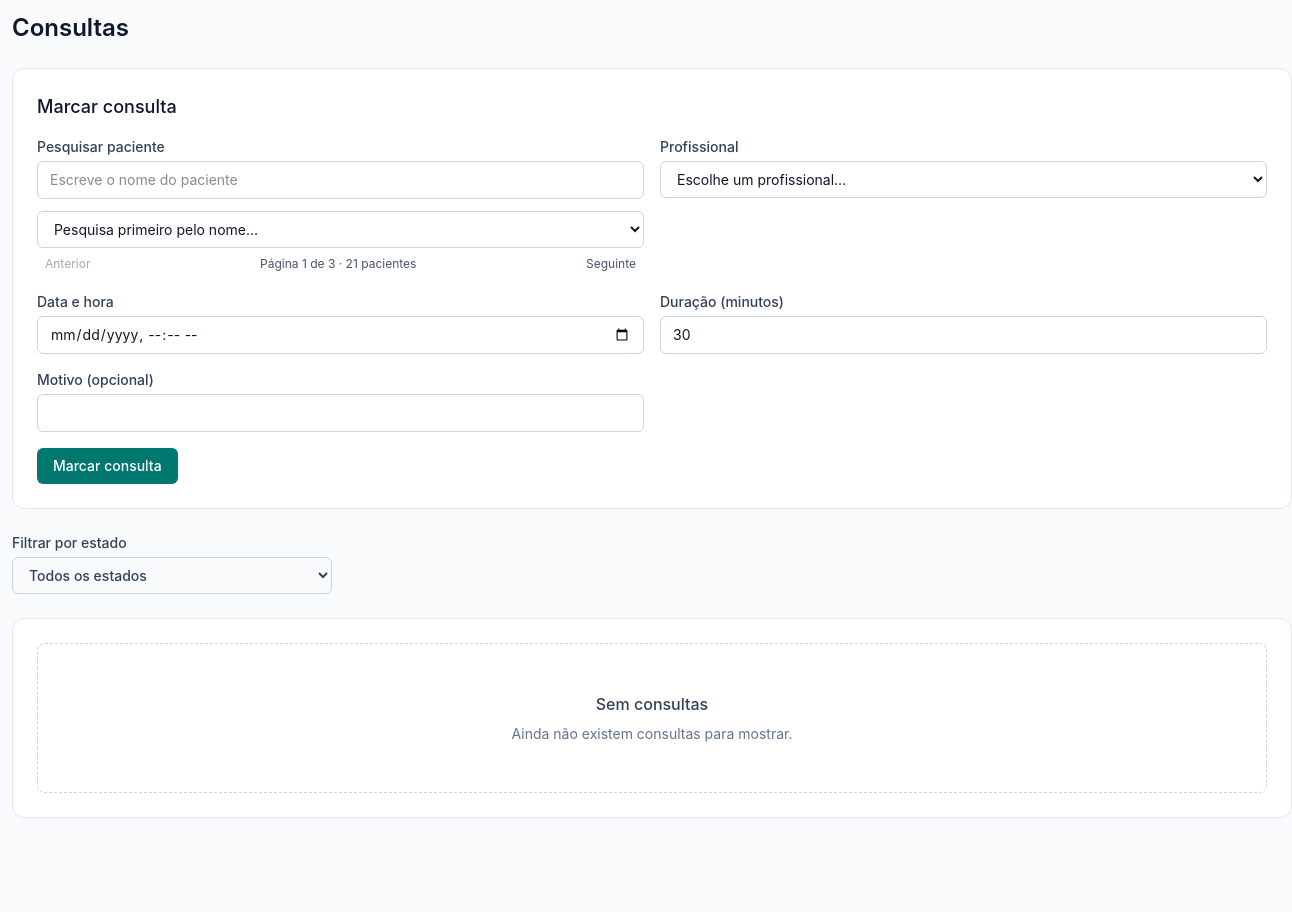
Test case: AppointmentsPage clinical workflow › shows a backend 409 conflict instead of swallowing it
Type "Ana" into the search field labelled "Pesquisar paciente". click: (340, 180)
box: [37,161,644,199]
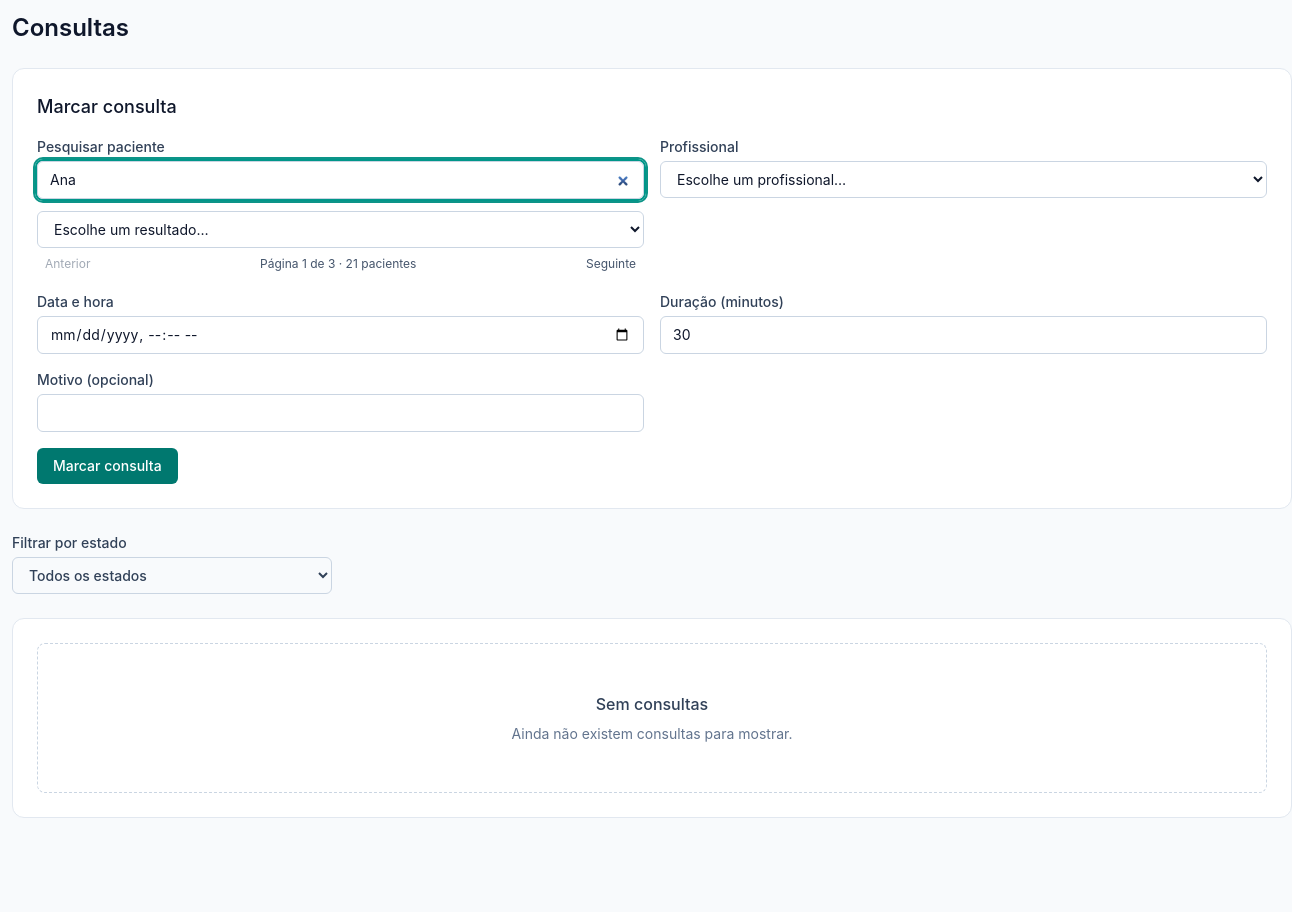
Select "Ana" in the dropdown named "Paciente". click: (340, 230)
box: [37,211,644,248]
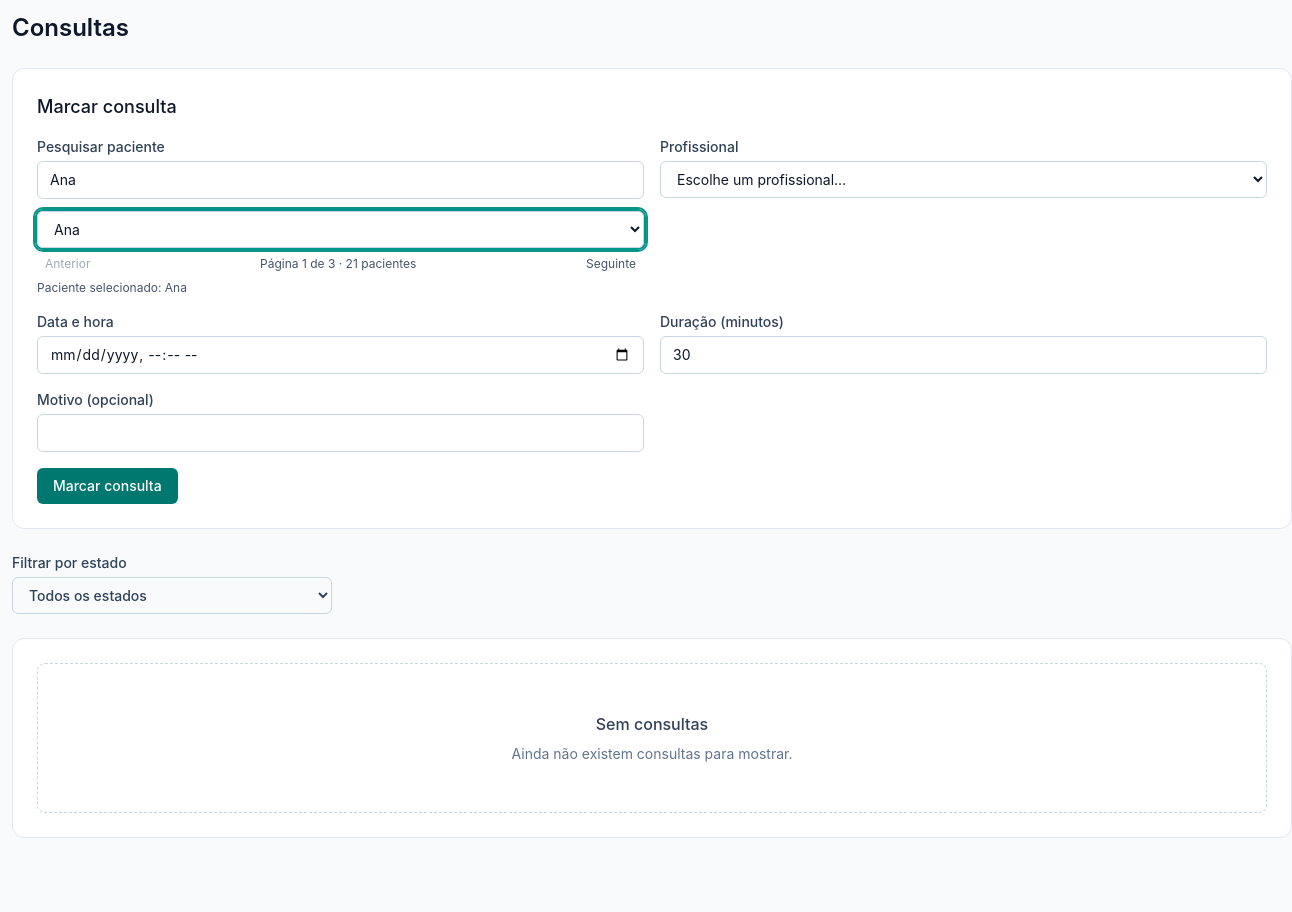
Select "Dr. Rui" in the dropdown labelled "Profissional". click: (964, 180)
box: [660,161,1267,198]
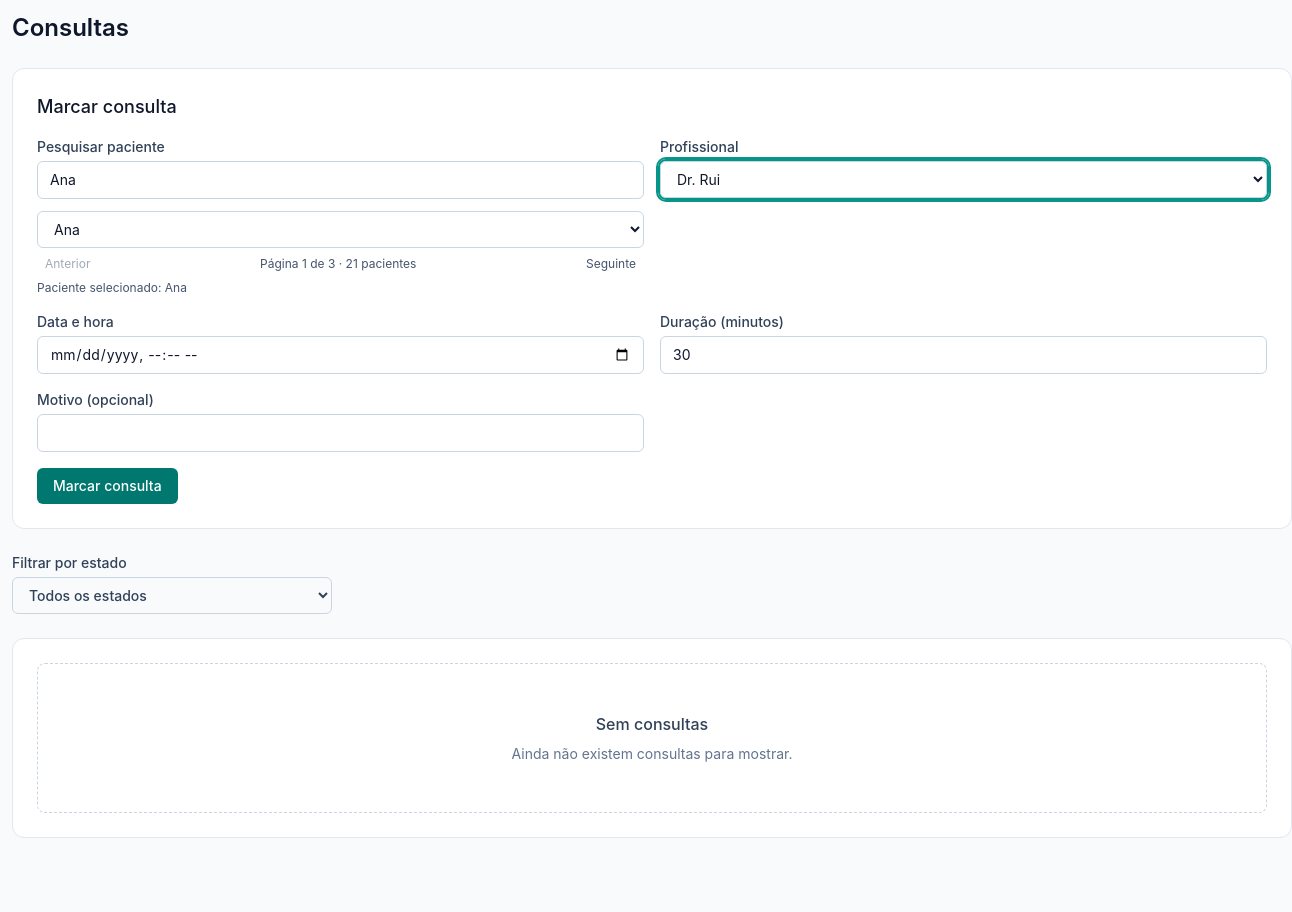
Type "2026-10-20T10:30" into the field labelled "Data e hora". click: (340, 355)
box: [37,336,644,374]
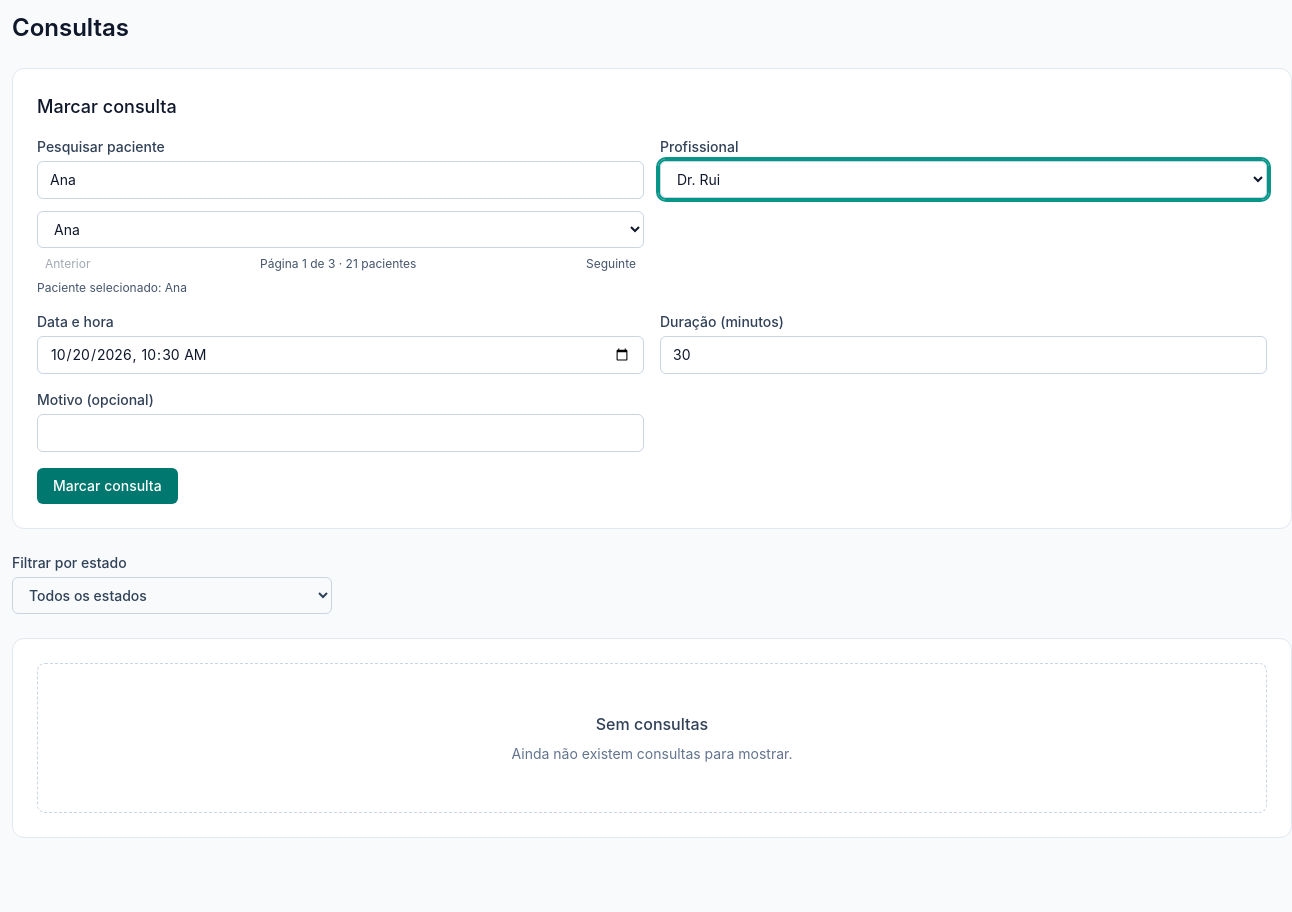
Type "Consulta anual" into the field labelled "Motivo (opcional)". click: (340, 433)
box: [37,414,644,452]
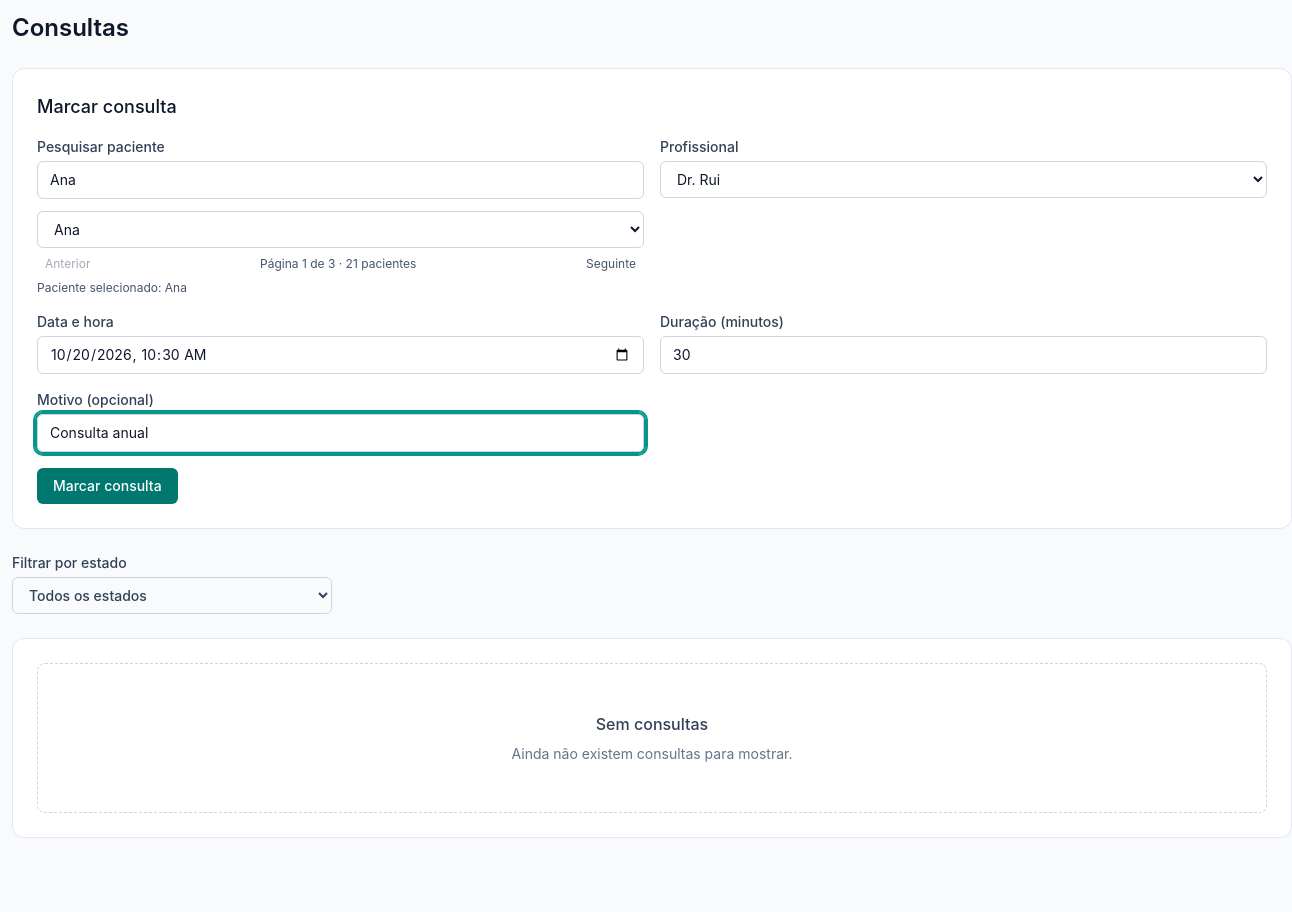
Click the button "Marcar consulta". click: click(107, 486)
box: [37,468,178,504]
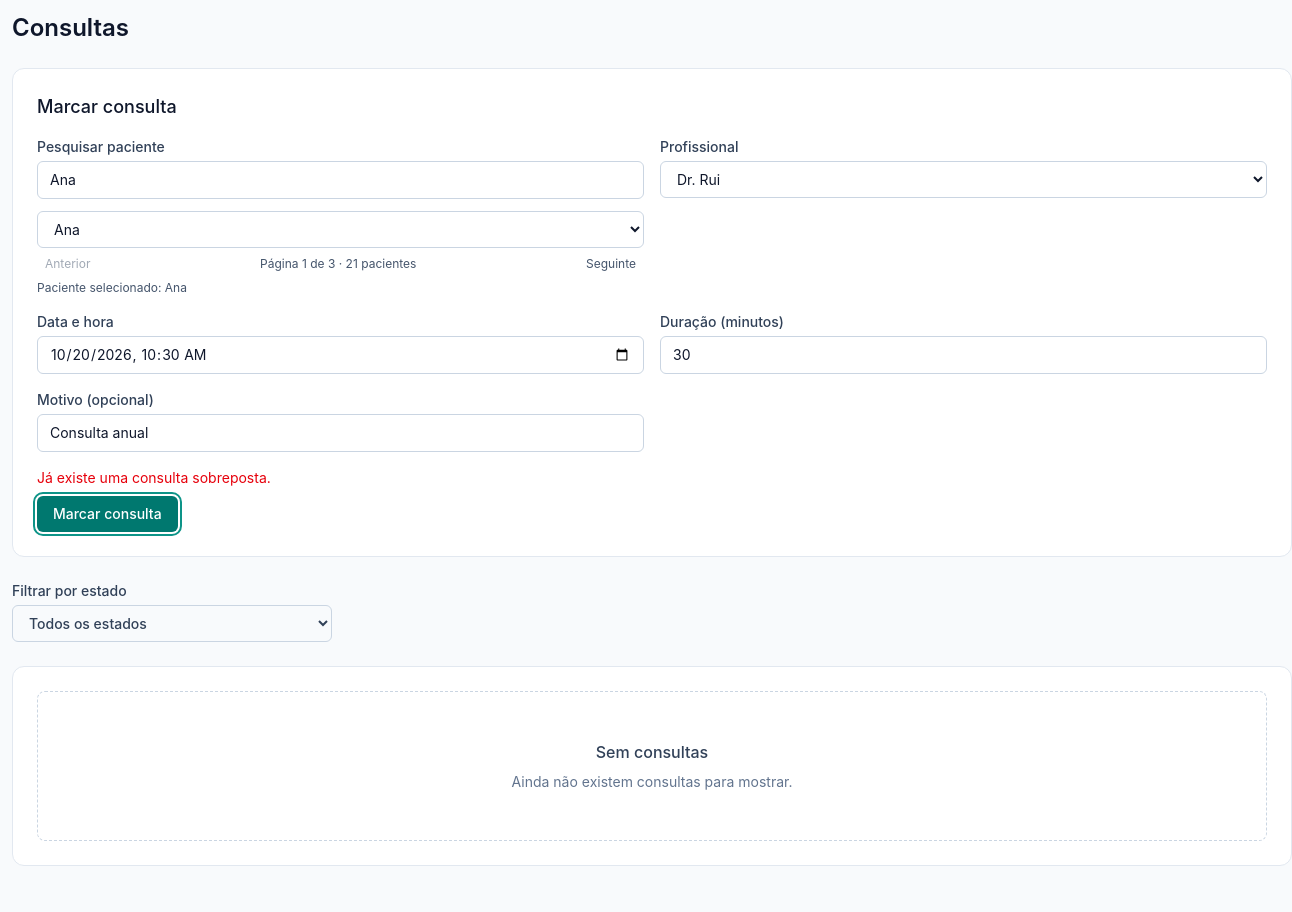
Expected: the message reads "Já existe uma consulta sobreposta.", [37,469,271,486]
